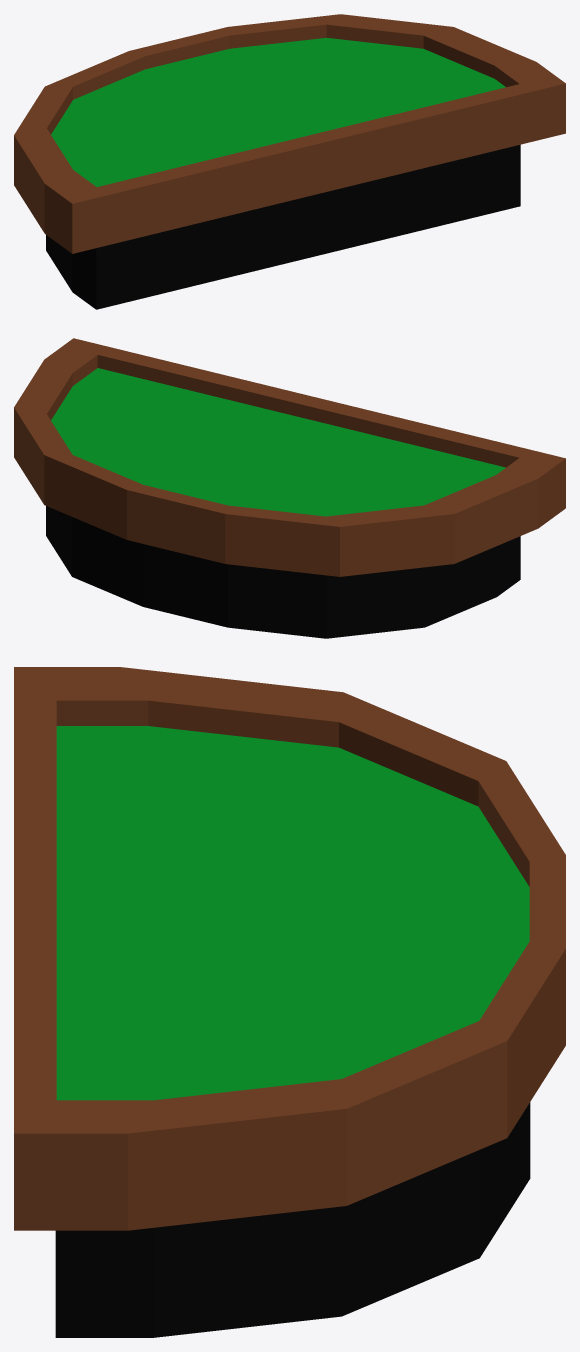
File: BlackJackTable.fbx
3 views of the same model, one above another, from view 1: azimuth 30°, elevation 25°; view 2: azimuth 150°, elevation 25°; view 3: azimuth 270°, elevation 25° (orthographic). The views are drawn at different scales.
Visible parts, largest first — view 1: Cube; view 2: Cube; view 3: Cube.
Part boxes in pixels (x1=…): Cube: x1=14, y1=14, x2=565, y2=309; Cube: x1=14, y1=338, x2=565, y2=638; Cube: x1=14, y1=667, x2=565, y2=1337.
Bounding box in the file's own units: 200 × 47.35 × 100.
